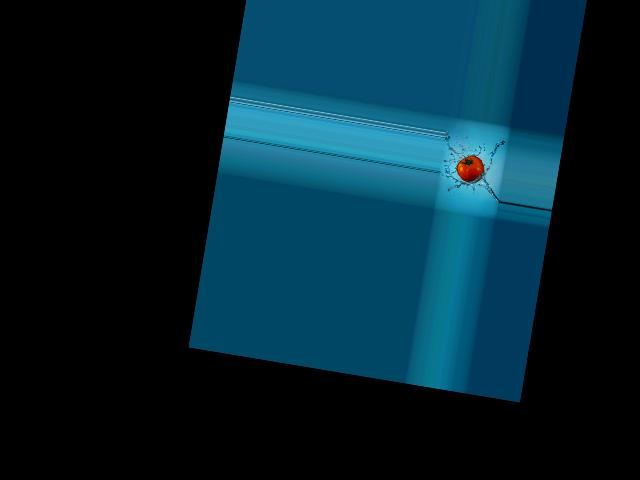tomato: (454, 153, 486, 184)
